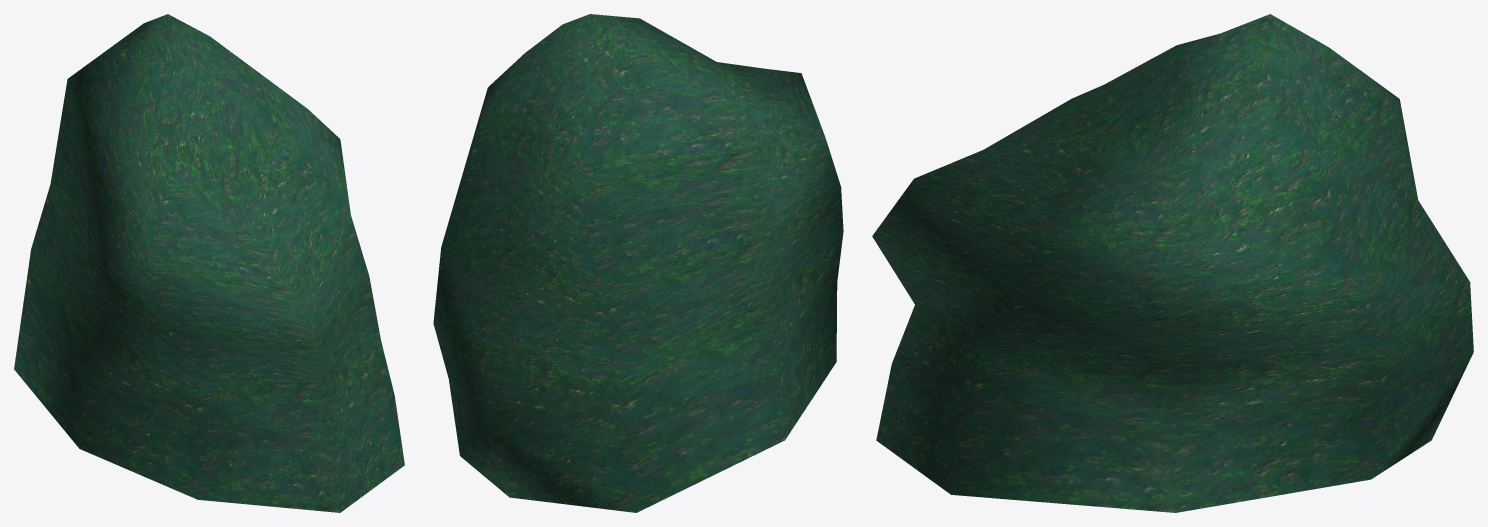
File: MIRK_ROCK.fbx
3 views of the same model, side by side, from view 1: azimuth 30°, elevation 25°; view 2: azimuth 150°, elevation 25°; view 3: azimuth 270°, elevation 25° (orthographic). The views are drawn at different scales.
Visible parts, largest first — view 1: MIRK_ROCK; view 2: MIRK_ROCK; view 3: MIRK_ROCK.
Boxes of the visible parts, x1=… form: MIRK_ROCK: x1=14, y1=14, x2=404, y2=512; MIRK_ROCK: x1=433, y1=14, x2=843, y2=512; MIRK_ROCK: x1=872, y1=14, x2=1473, y2=512.
Size of the model in its own units: 37958 by 50815 by 64981.
Materials: 1 (1 with a texture image).
